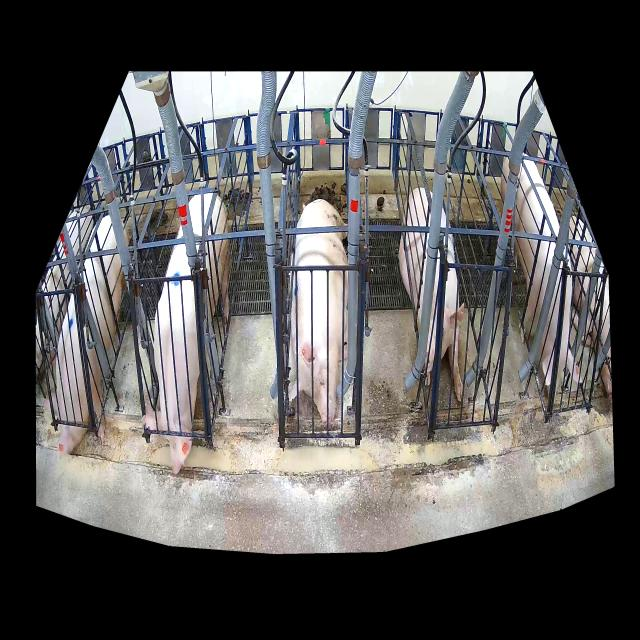pig: (142, 193, 229, 473), (500, 156, 580, 405), (44, 214, 124, 457), (399, 188, 464, 401), (288, 199, 348, 425)
